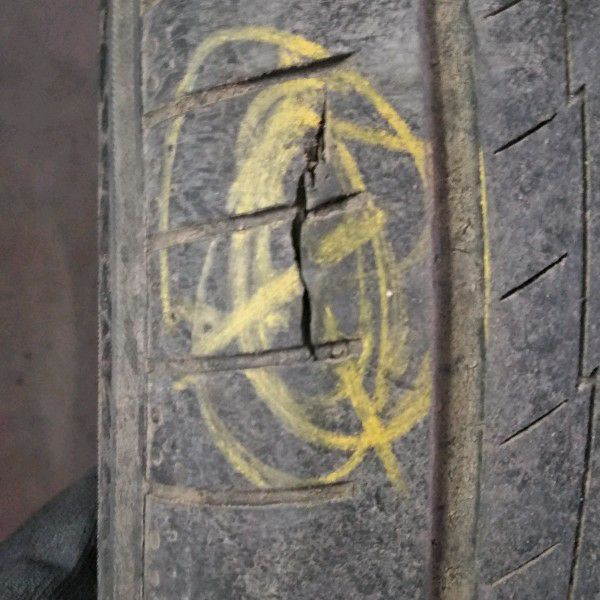tr: (287, 86, 367, 370)
